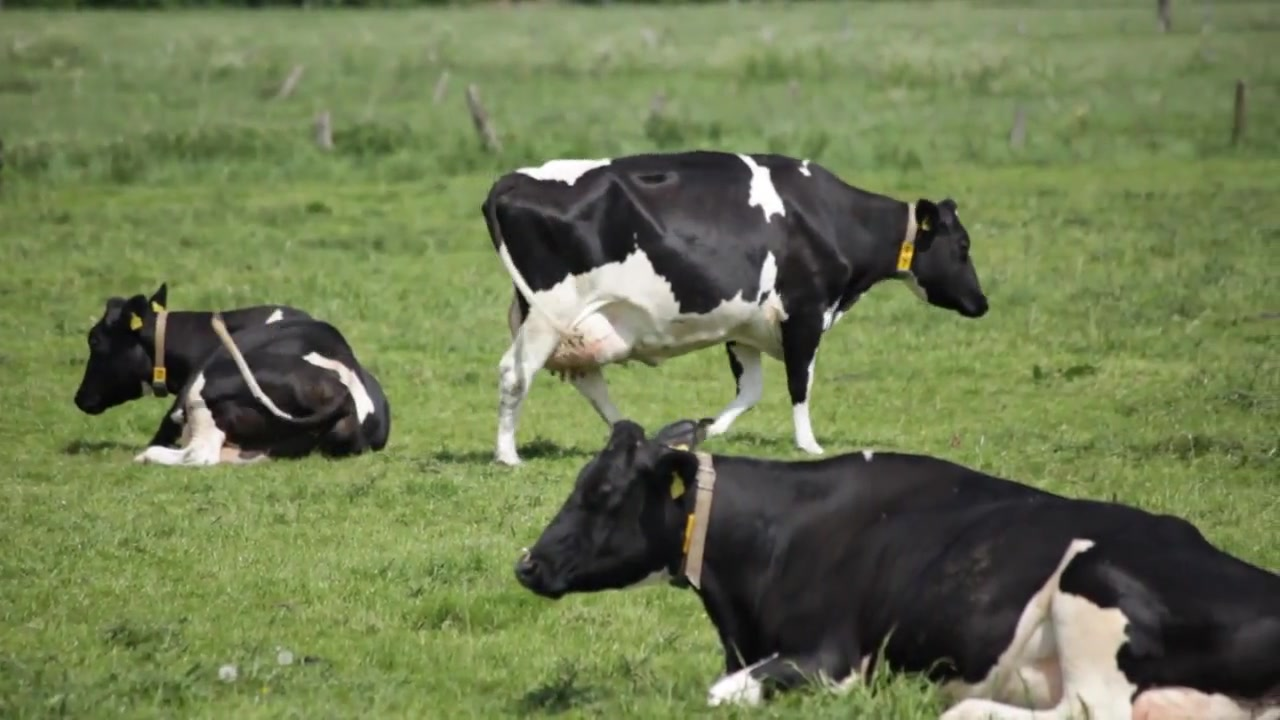cow: (483, 148, 995, 469)
